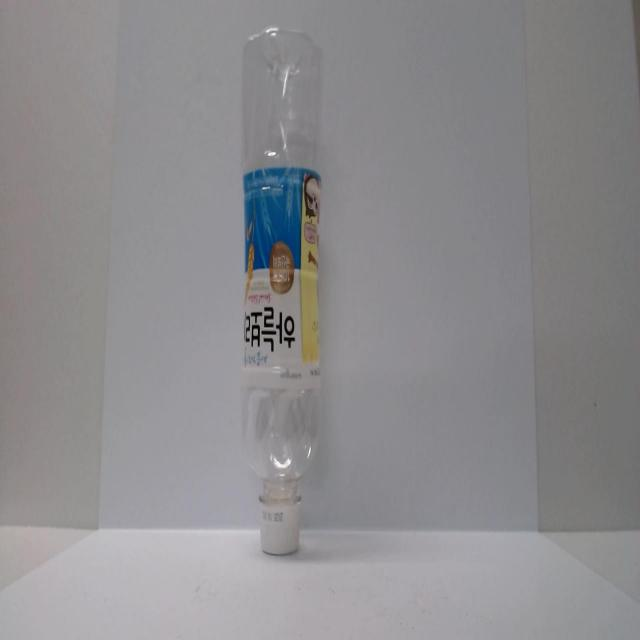bottle: (238, 5, 330, 562)
